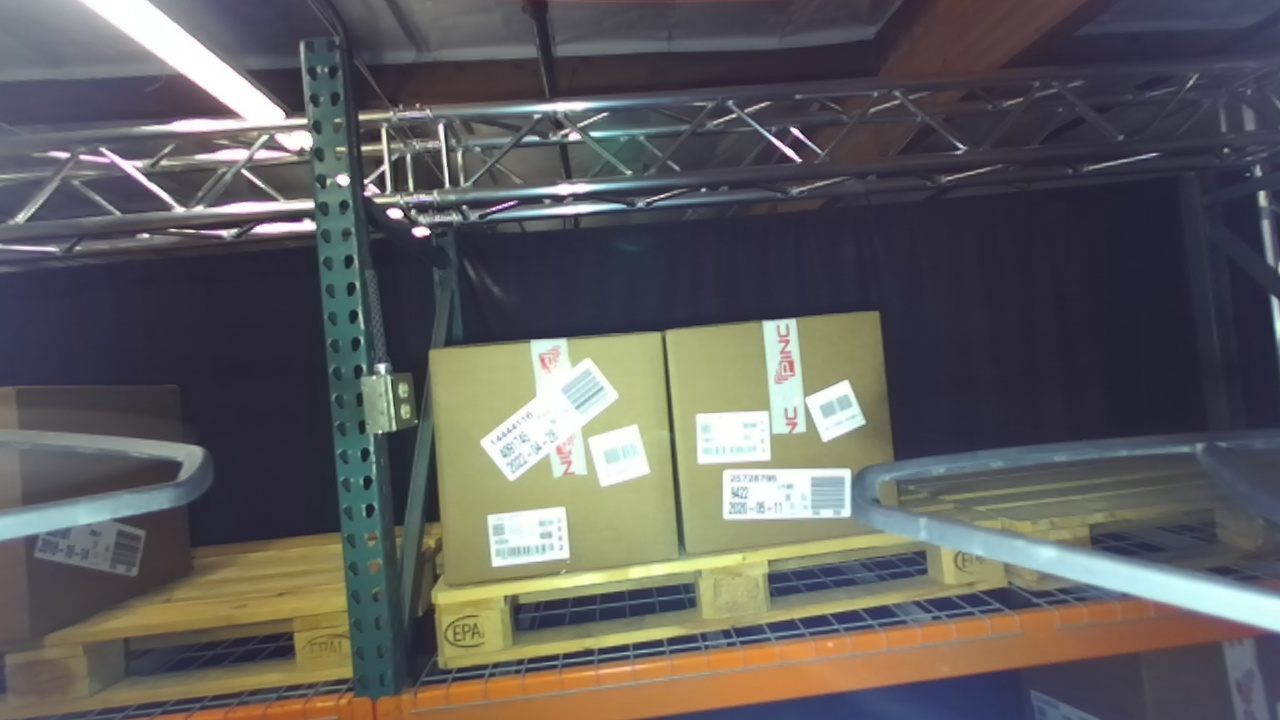box: (411, 306, 707, 592), (642, 300, 946, 564)
